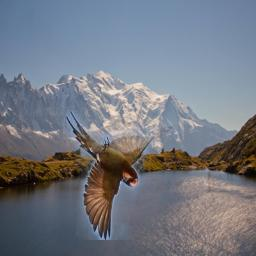Swallow: (66, 110, 173, 240)
